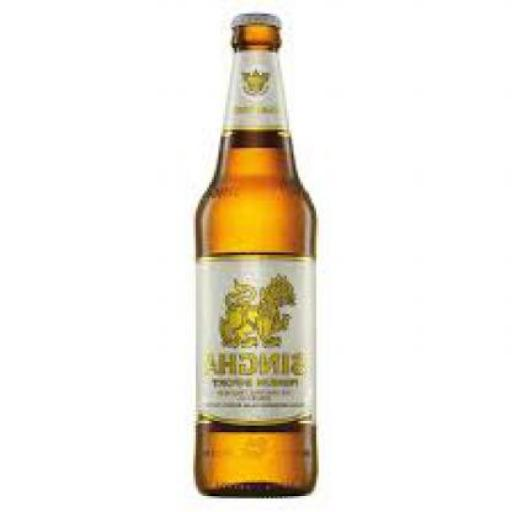glass: (196, 21, 318, 493)
metal: (235, 12, 284, 25)
